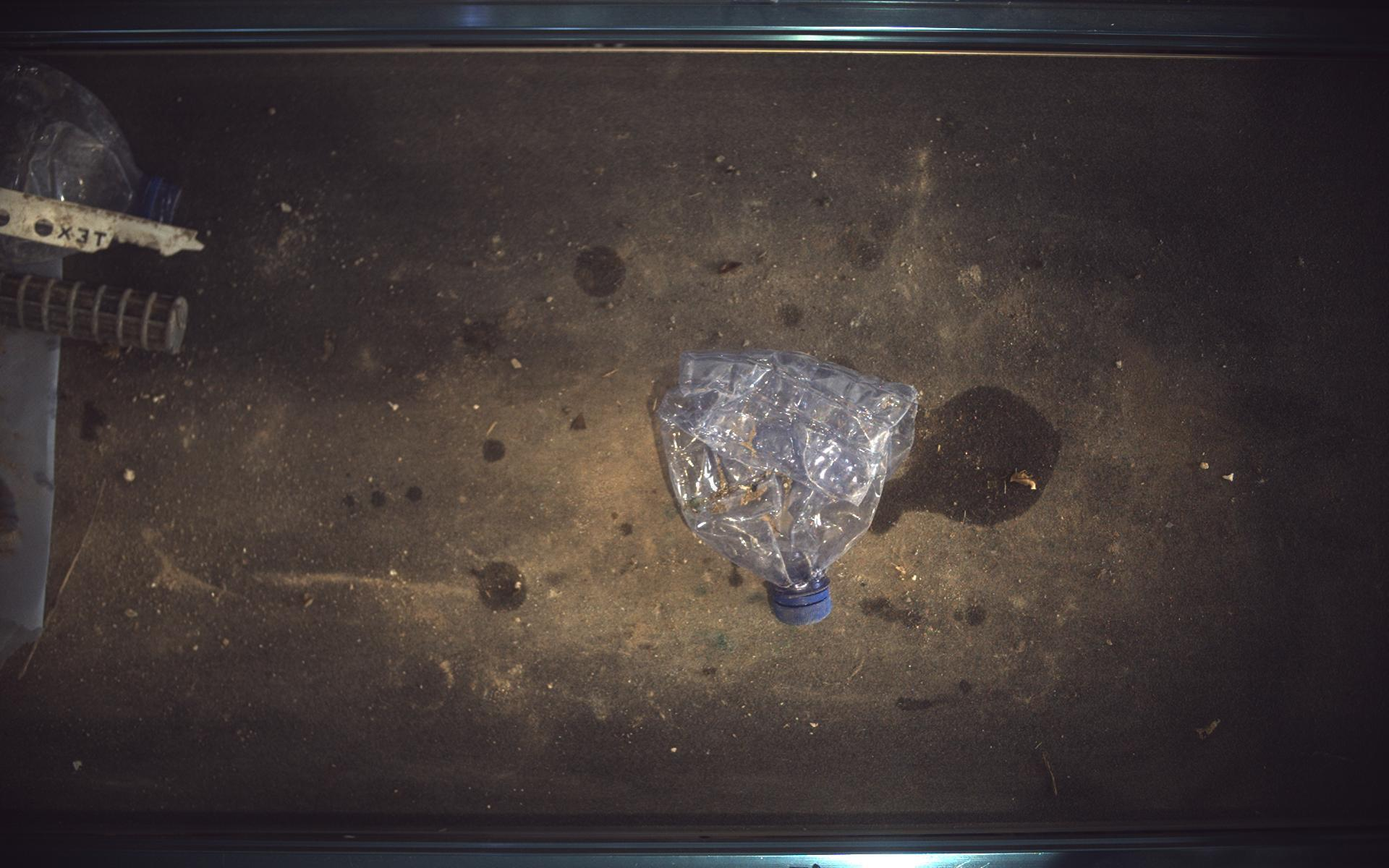general_w: (658, 350, 919, 626), (1, 55, 179, 222), (1, 235, 65, 275)
plastic: (1, 271, 187, 354), (1, 187, 203, 255)
